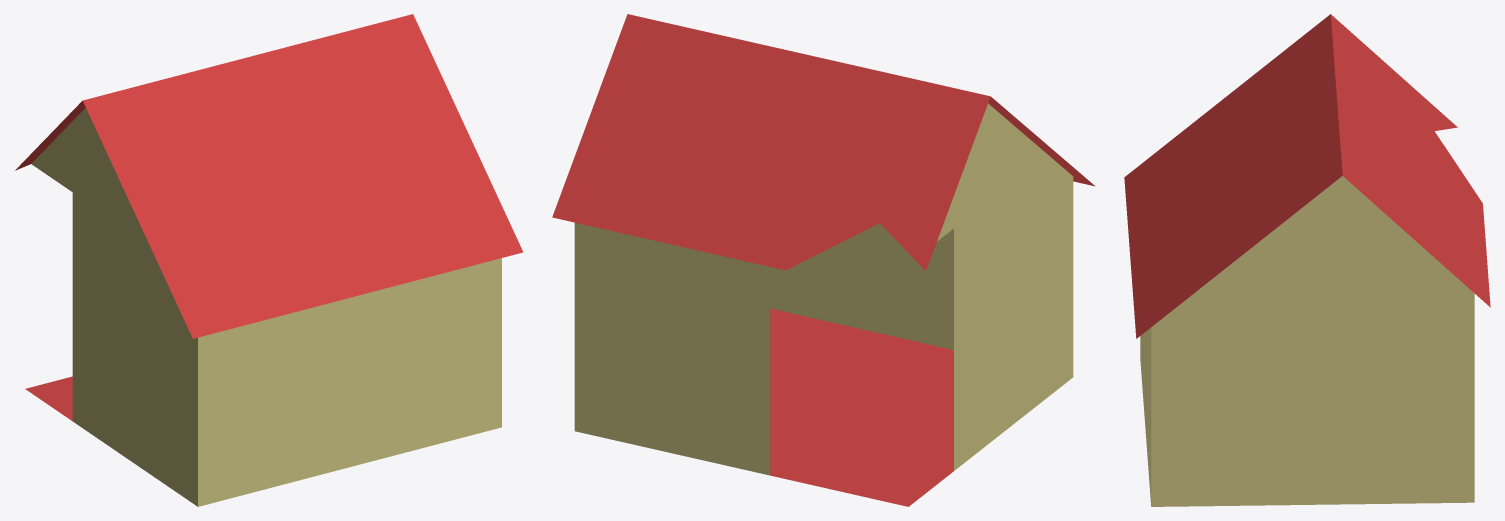
3 renders of one model, left to right at view 1: azimuth 30°, elevation 25°; view 2: azimuth 150°, elevation 25°; view 3: azimuth 270°, elevation 25°, orthographic. The views are drawn at different scales.
Bounding box in the file's own units: 12.77 × 11.89 × 12.01.
